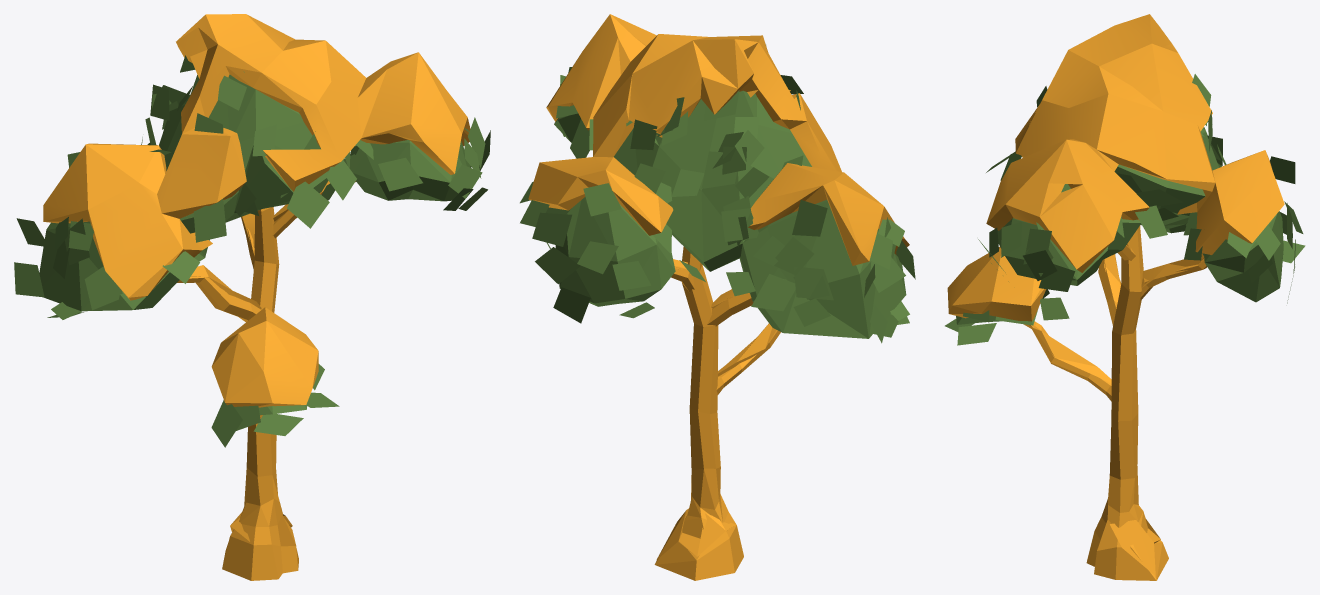
The model's file is SM_Tree_Oak_Young_A_Snow.fbx.
3 renders of one model, left to right at view 1: azimuth 30°, elevation 25°; view 2: azimuth 150°, elevation 25°; view 3: azimuth 270°, elevation 25°, orthographic. The views are drawn at different scales.
Visible parts, largest first — view 1: tree-oak-young-a-snow; view 2: tree-oak-young-a-snow; view 3: tree-oak-young-a-snow.
Part boxes in pixels (bbox=[...]): tree-oak-young-a-snow: bbox=[14, 14, 490, 580]; tree-oak-young-a-snow: bbox=[520, 14, 915, 580]; tree-oak-young-a-snow: bbox=[945, 14, 1305, 580].
Size of the model in its own units: 4.15 by 5.45 by 3.37.
